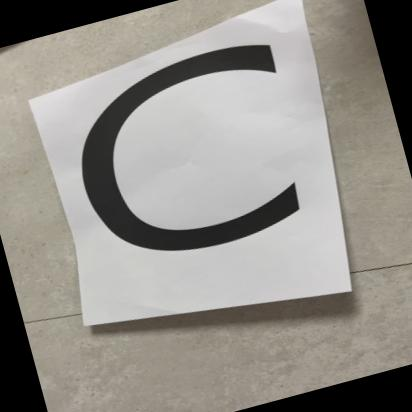seat: (30, 29, 351, 324)
